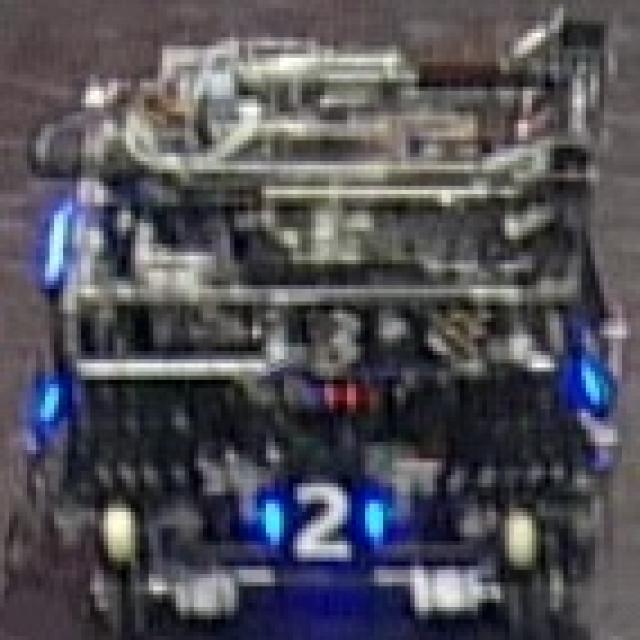B2: (239, 466, 387, 566)
